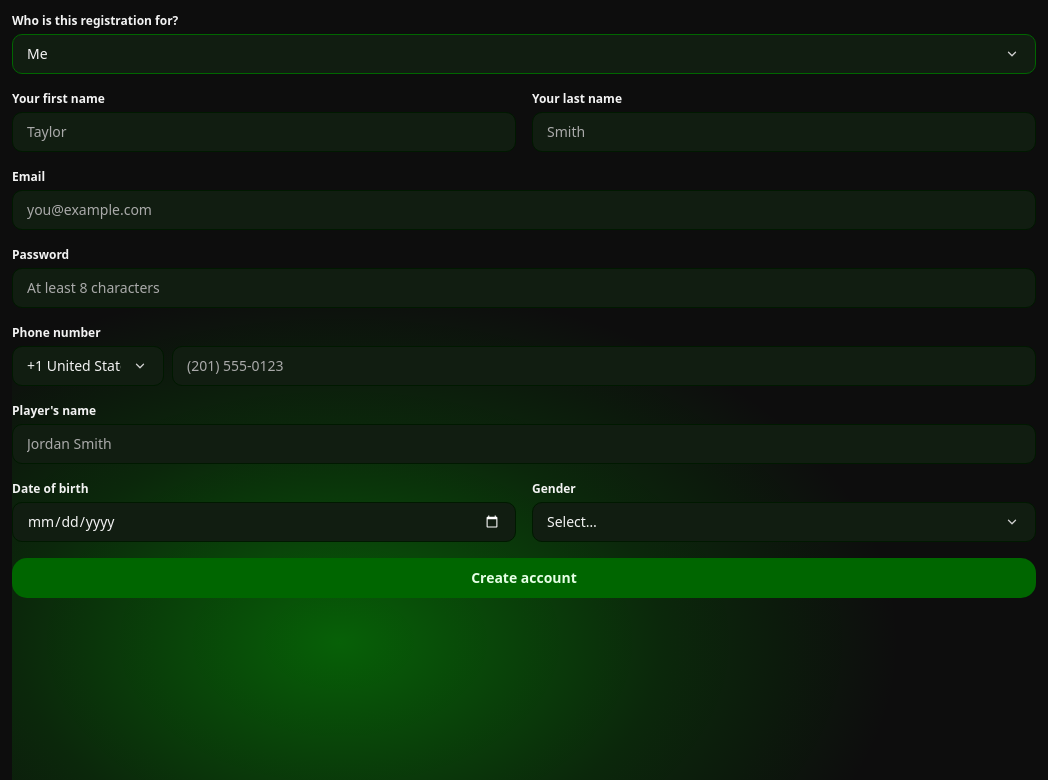
Test case: AnonymousJoinForm › type: PLAYER_STATIC › does not submit when a required field is missing
Click the button "Create account" at (524, 578), box [12,558,1036,598]
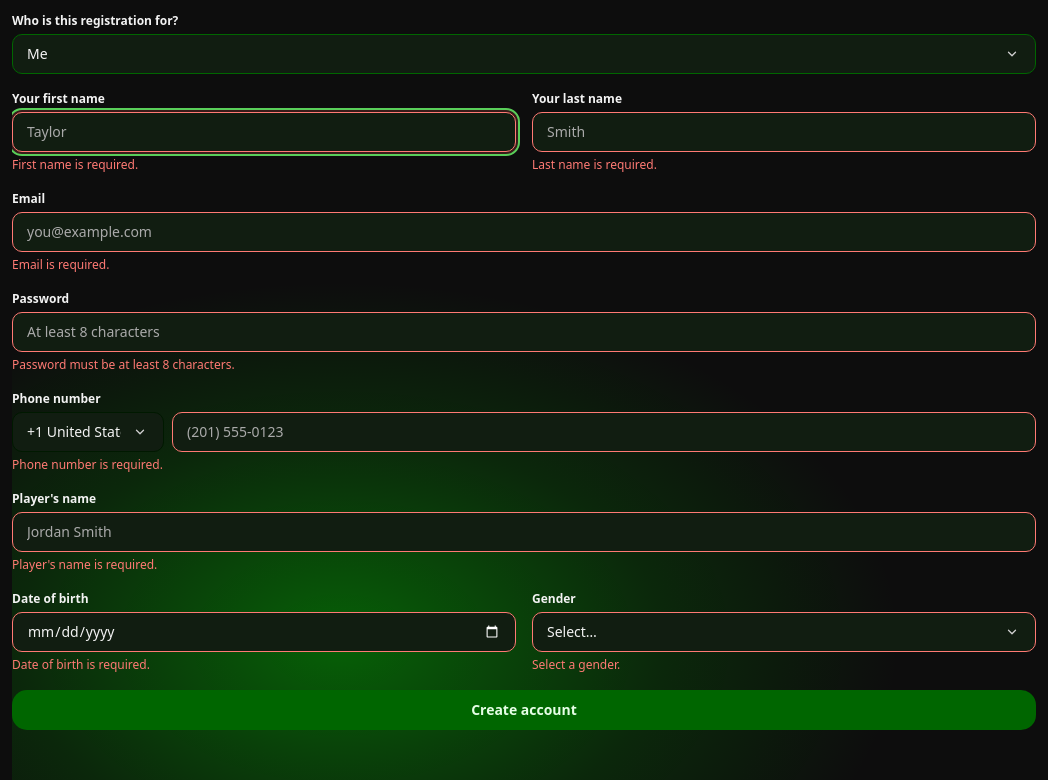
Check: the text "Email is required." is shown, box [12,256,109,273]
